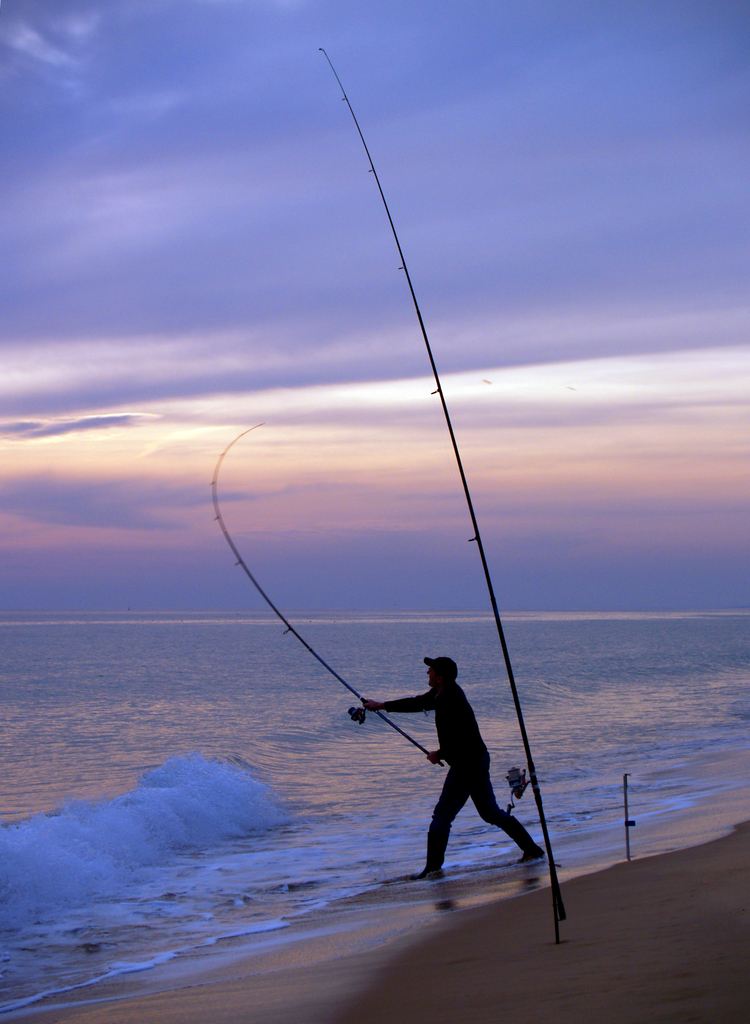Person: (362, 656, 544, 877)
